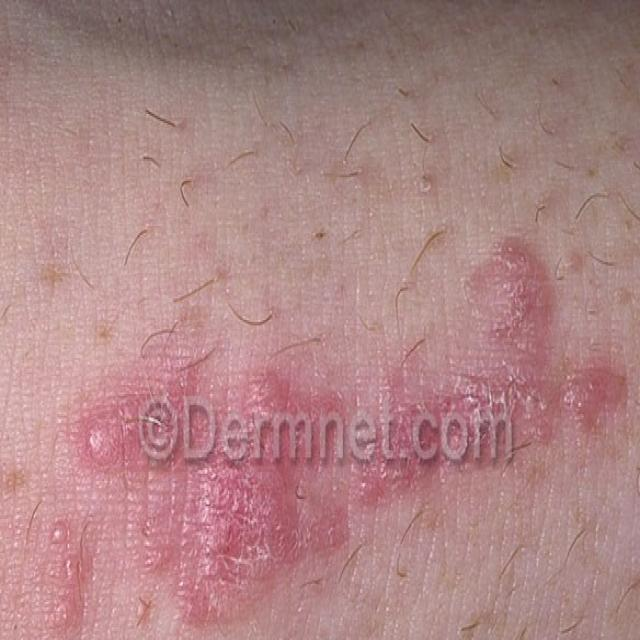Warts: (60, 360, 362, 640), (365, 223, 564, 496), (563, 355, 622, 441)
